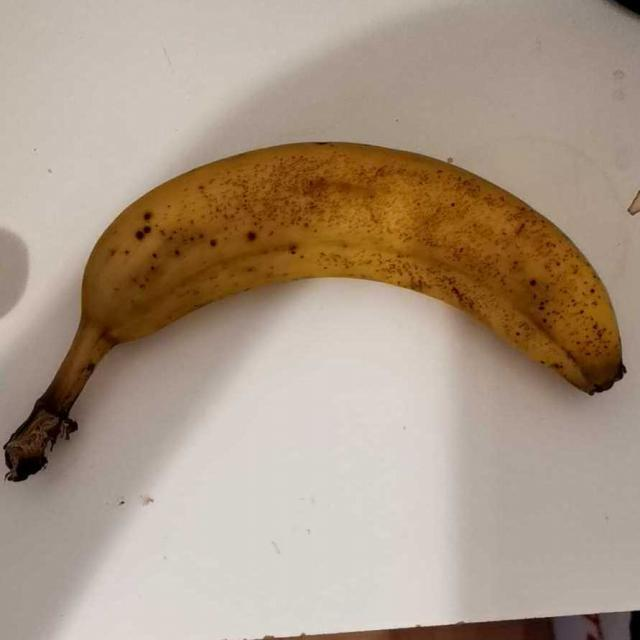banana: (23, 147, 616, 448)
